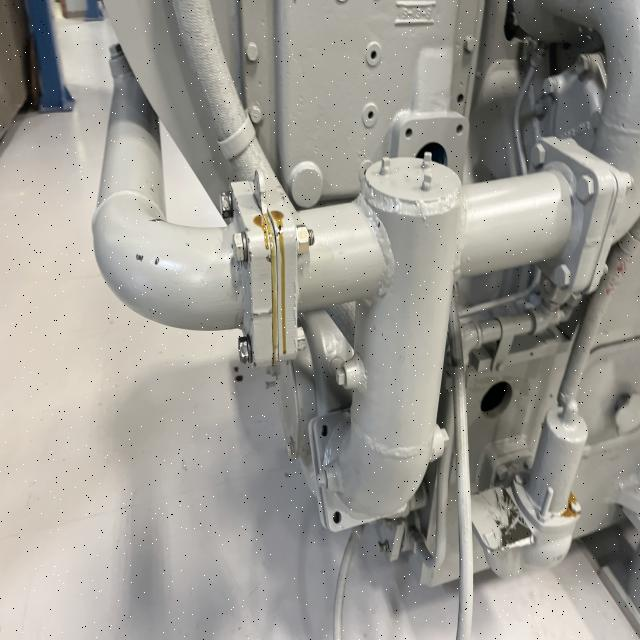Oil Leak: (253, 210, 288, 366), (559, 489, 583, 520)
